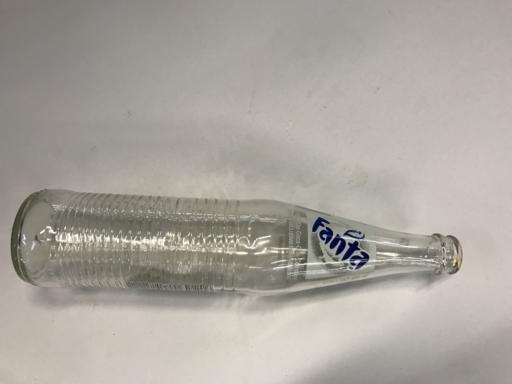botolkaca: (10, 189, 463, 296)
